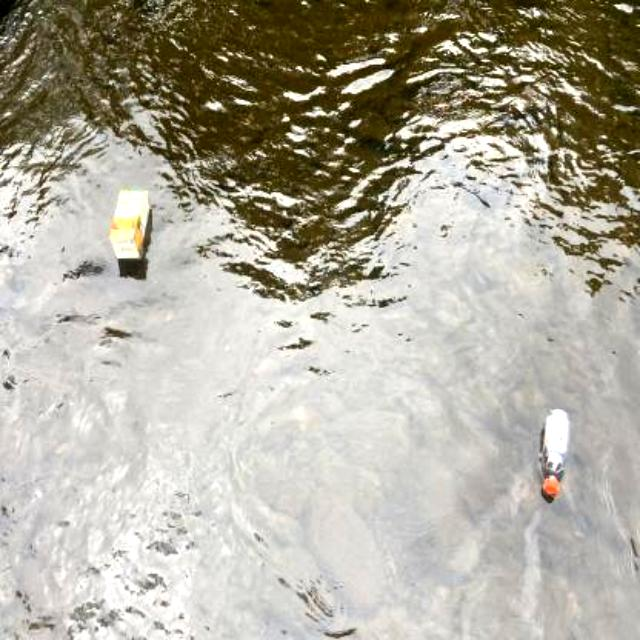Cardboard: (106, 183, 160, 267)
Plastic: (536, 403, 578, 507)
